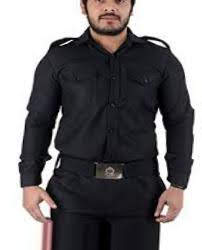uniform: (18, 31, 193, 246)
